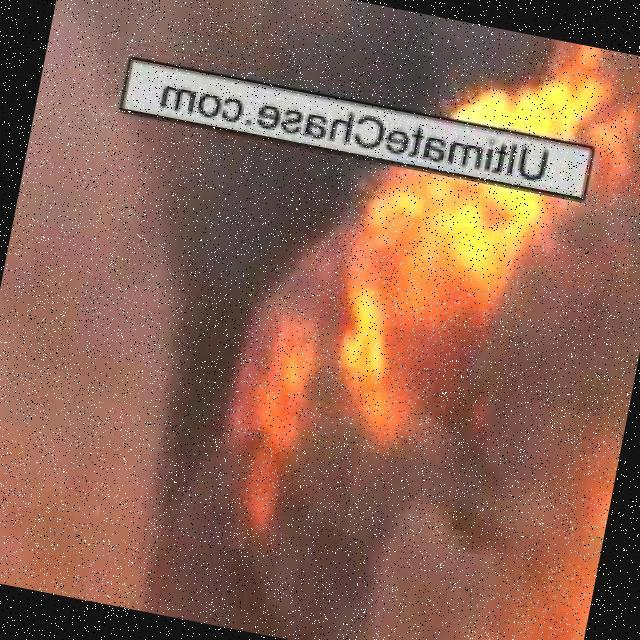Fire: (213, 13, 640, 640)
